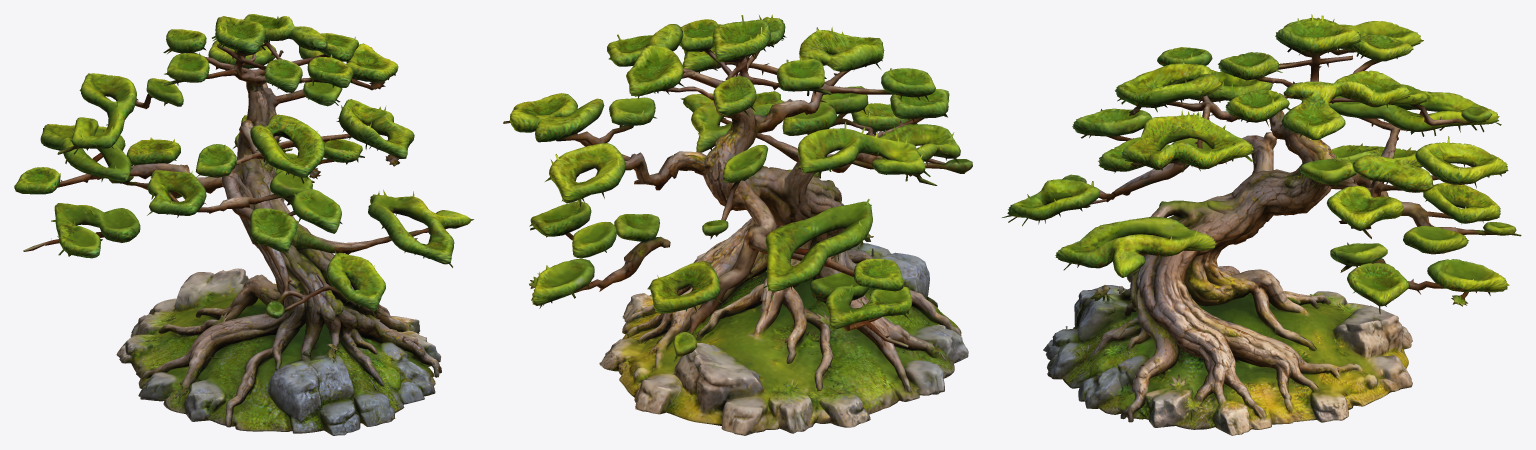
Rendered from pine.glb.
3 renders of one model, left to right at view 1: azimuth 30°, elevation 25°; view 2: azimuth 150°, elevation 25°; view 3: azimuth 270°, elevation 25°, orthographic. The views are drawn at different scales.
Visible parts, largest first — view 1: tripo_node_246b5d7a-feda-43ab-90f1-463b203932c9; view 2: tripo_node_246b5d7a-feda-43ab-90f1-463b203932c9; view 3: tripo_node_246b5d7a-feda-43ab-90f1-463b203932c9.
Part boxes in pixels (x1,y1,x2,y2): tripo_node_246b5d7a-feda-43ab-90f1-463b203932c9: (14,14,473,435); tripo_node_246b5d7a-feda-43ab-90f1-463b203932c9: (503,14,972,435); tripo_node_246b5d7a-feda-43ab-90f1-463b203932c9: (1002,14,1521,435).
Bounding box in the file's own units: 0.8585 × 0.7108 × 0.985.
Materials: 1 (1 with a texture image).
